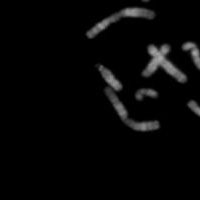chromosome: (105, 85, 159, 130), (86, 8, 154, 39), (148, 45, 186, 82), (142, 41, 169, 75), (97, 64, 122, 90), (187, 99, 200, 139), (183, 42, 200, 70), (136, 87, 157, 100), (188, 0, 200, 19)
